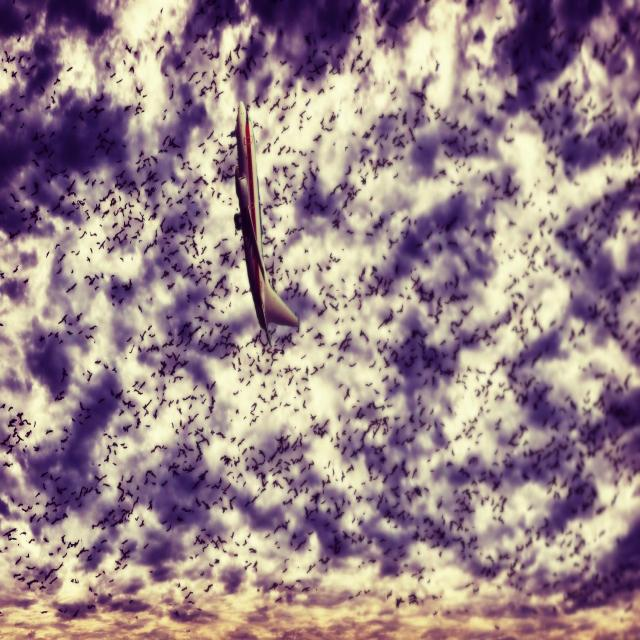airplane: (232, 100, 300, 346)
